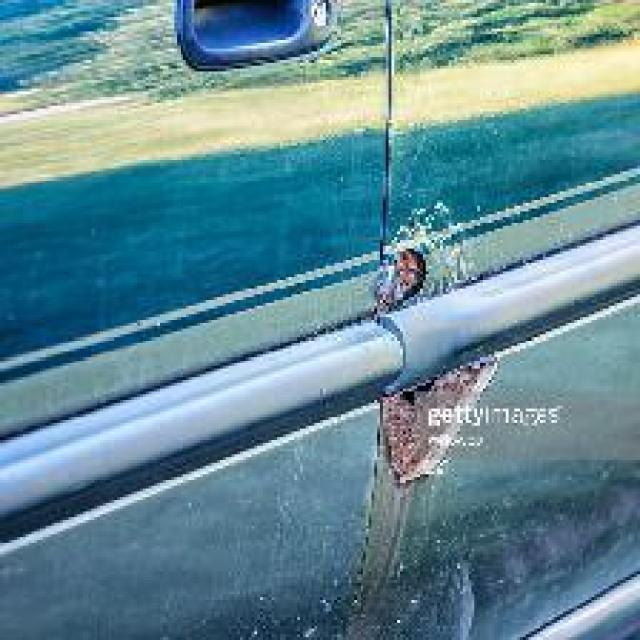damaged: (380, 200, 526, 486)
